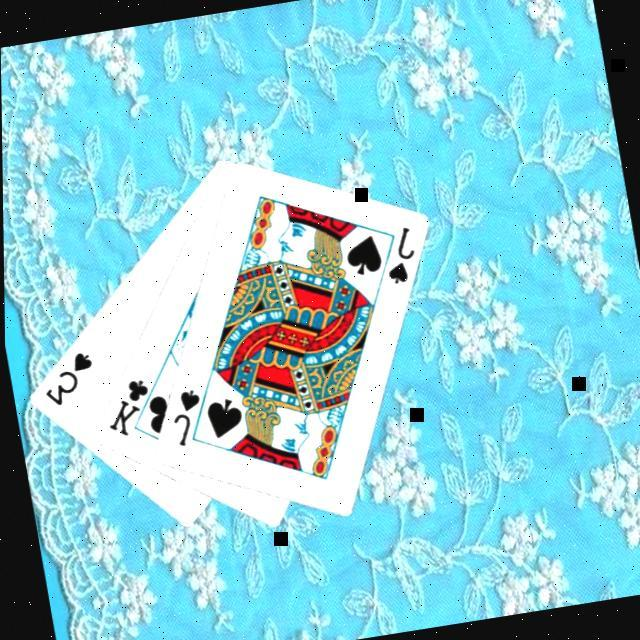3S: (36, 348, 103, 412)
JS: (164, 385, 212, 452), (378, 224, 423, 288)
KC: (98, 374, 170, 444)
